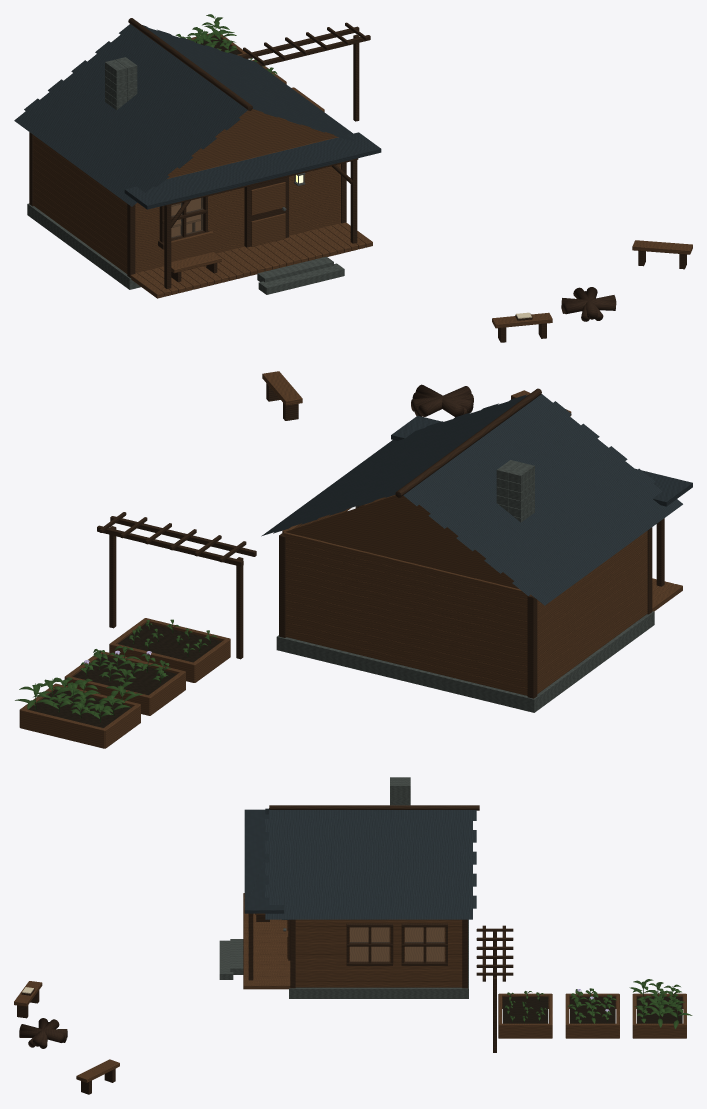
Rendered from woodland.glb.
3 renders of one model, top to bottom at view 1: azimuth 30°, elevation 25°; view 2: azimuth 150°, elevation 25°; view 3: azimuth 270°, elevation 25°, orthographic. The views are drawn at different scales.
Visible parts, largest first — view 1: Slate roof, Weathered cedar, Oak joinery, River stone, Bark, Leaves, Window glass; view 2: Weathered cedar, Slate roof, Oak joinery, River stone, Garden soil, Leaves, Bark; view 3: Slate roof, Weathered cedar, Oak joinery, River stone, Garden soil, Leaves, Window glass, Bark.
Part boxes in pixels (left/top/right/bottom): Slate roof: left=14, top=24, right=381, bottom=209; Weathered cedar: left=33, top=33, right=692, bottom=328; Oak joinery: left=29, top=18, right=686, bottom=342; River stone: left=27, top=57, right=344, bottom=294; Bark: left=561, top=287, right=616, bottom=321; Leaves: left=175, top=14, right=277, bottom=75; Window glass: left=172, top=198, right=202, bottom=237; Weathered cedar: left=19, top=371, right=682, bottom=748; Slate roof: left=261, top=394, right=692, bottom=605; Oak joinery: left=97, top=383, right=664, bottom=698; River stone: left=276, top=460, right=654, bottom=712; Garden soil: left=28, top=623, right=221, bottom=727; Leaves: left=15, top=619, right=217, bottom=722; Bark: left=411, top=384, right=473, bottom=417; Slate roof: left=244, top=808, right=476, bottom=919; Weathered cedar: left=14, top=893, right=686, bottom=1082; Oak joinery: left=17, top=805, right=513, bottom=1094; River stone: left=219, top=777, right=468, bottom=998; Garden soil: left=502, top=996, right=682, bottom=1023; Leaves: left=505, top=979, right=692, bottom=1029; Window glass: left=350, top=928, right=443, bottom=960; Bark: left=19, top=1018, right=67, bottom=1048.
Size of the model in its own units: 15.31 by 5.3 by 22.25.
12 materials, 7 textured.
